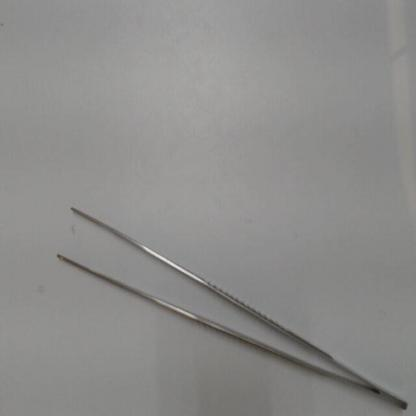DeBakey Dissector: (33, 187, 412, 409)
